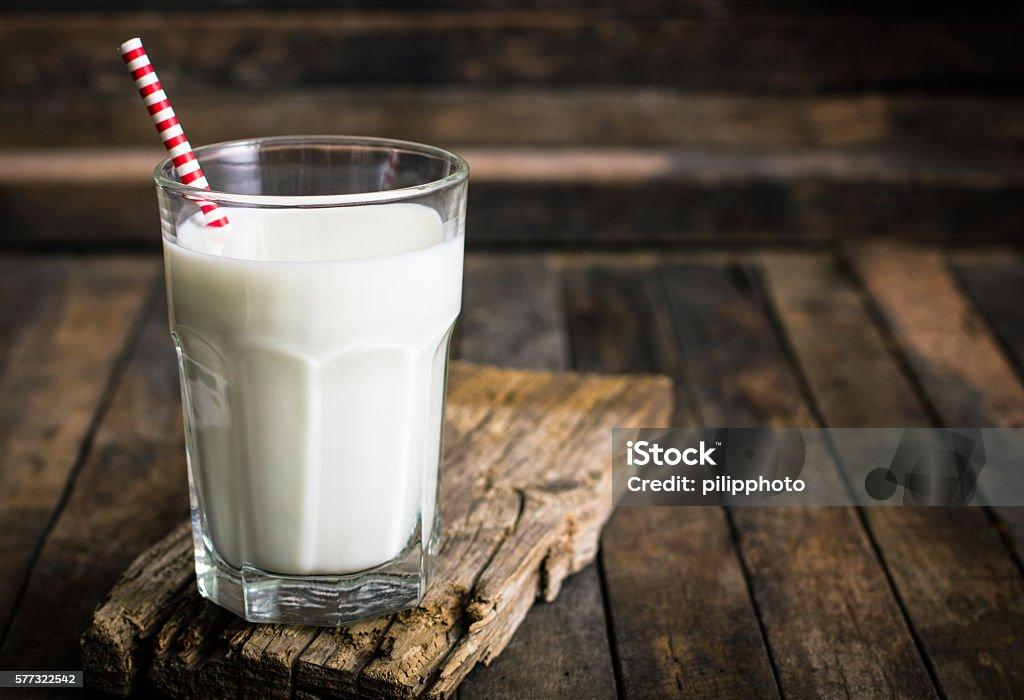produk_susu: (204, 218, 427, 602)
